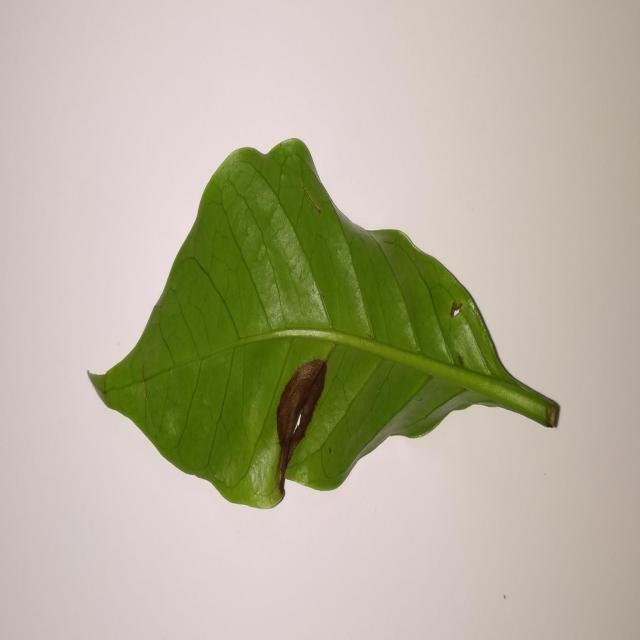Enfermedad-Antracnosis: (86, 138, 561, 512)
